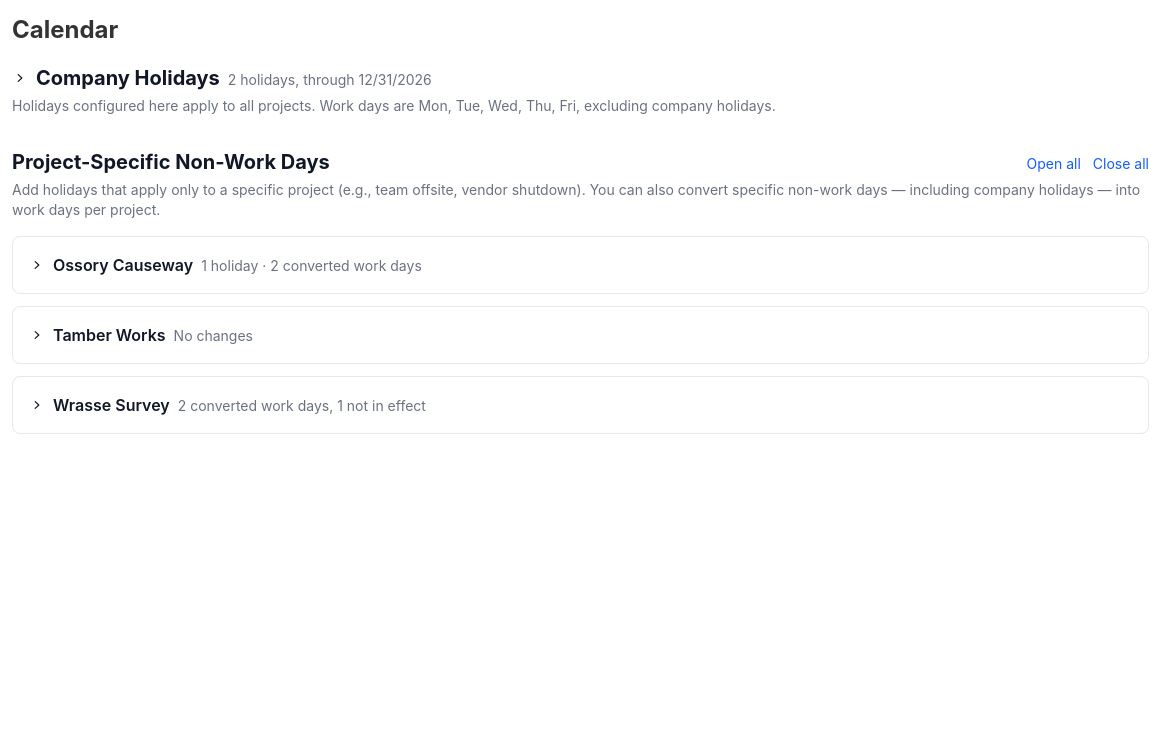
Test: WI-174: what each row says beside its name › an open project's Converted Work Days heading sits BELOW its name in the outline: an h4 (ruling 6)
Click the button "Tamber Works No changes": [109, 335] box [29, 323, 1132, 347]
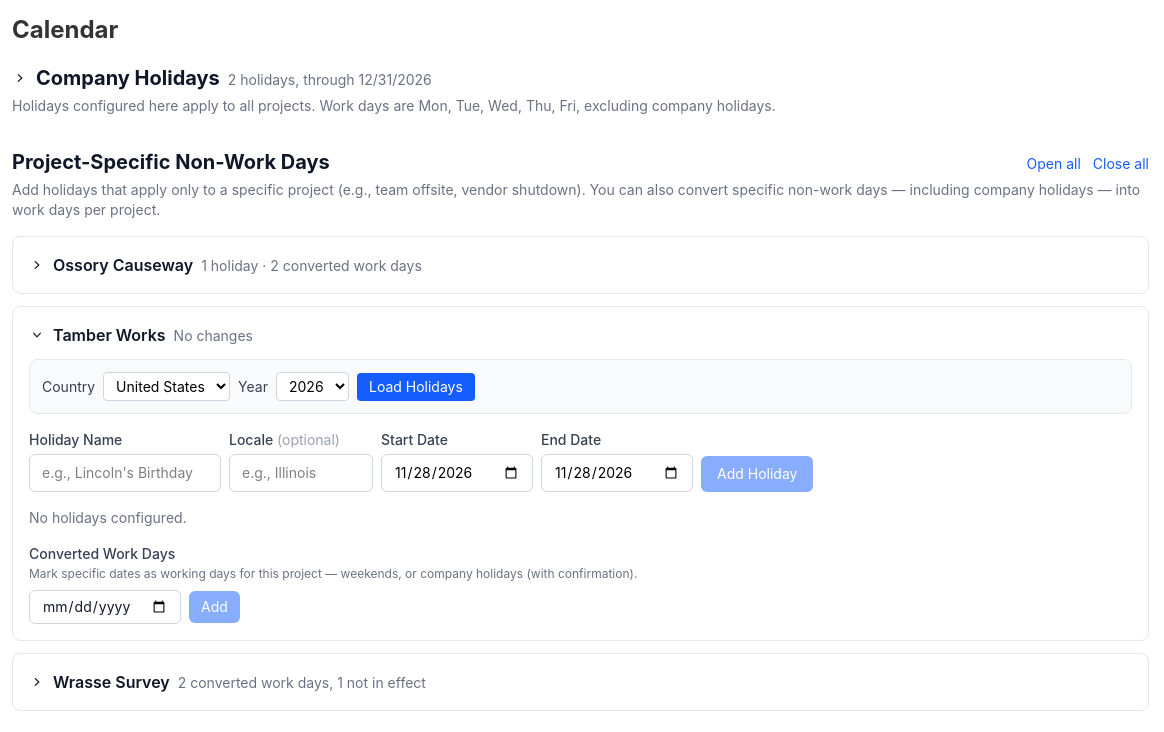
Now the heading "Converted Work Days" is shown, box [29, 545, 175, 562]
